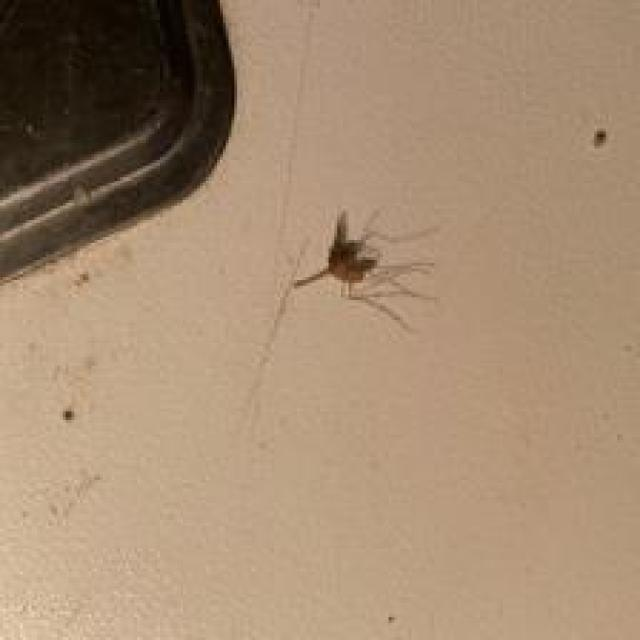Culex: (291, 207, 440, 333)
